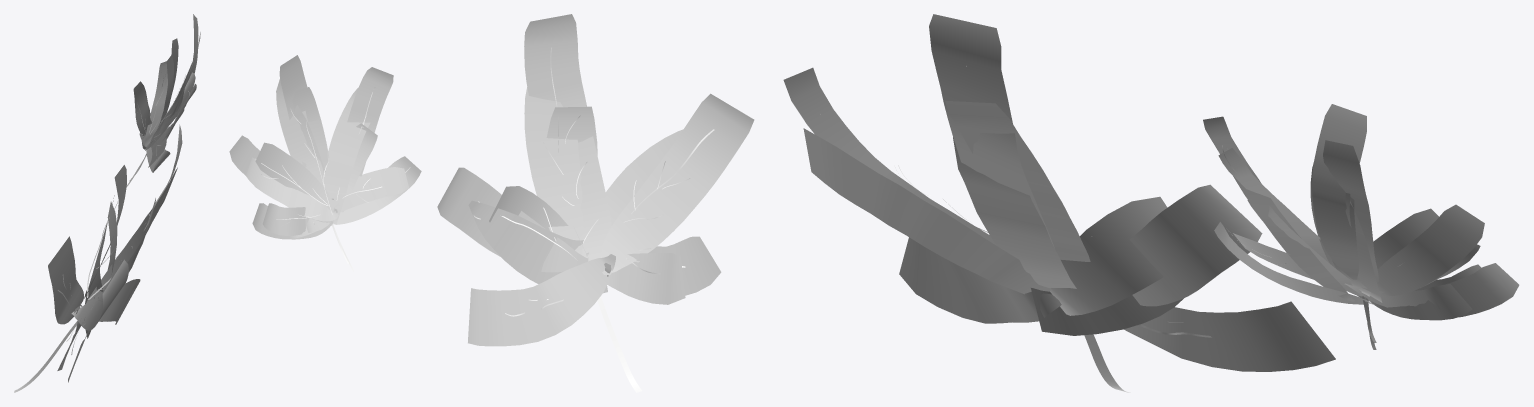
The model's file is new_fa_maple.fbx.
3 renders of one model, left to right at view 1: azimuth 30°, elevation 25°; view 2: azimuth 150°, elevation 25°; view 3: azimuth 270°, elevation 25°, orthographic. The views are drawn at different scales.
Visible parts, largest first — view 1: fa_maple1, fa_maple2; view 2: fa_maple1, fa_maple2; view 3: fa_maple1, fa_maple2.
Boxes of the visible parts, x1,y1,x2,y2 form: fa_maple1: [48, 14, 200, 382]; fa_maple2: [14, 65, 190, 392]; fa_maple1: [229, 14, 754, 346]; fa_maple2: [255, 47, 714, 392]; fa_maple1: [783, 14, 1519, 371]; fa_maple2: [820, 66, 1376, 392].
Bounding box in the file's own units: 357 × 353 × 470.
